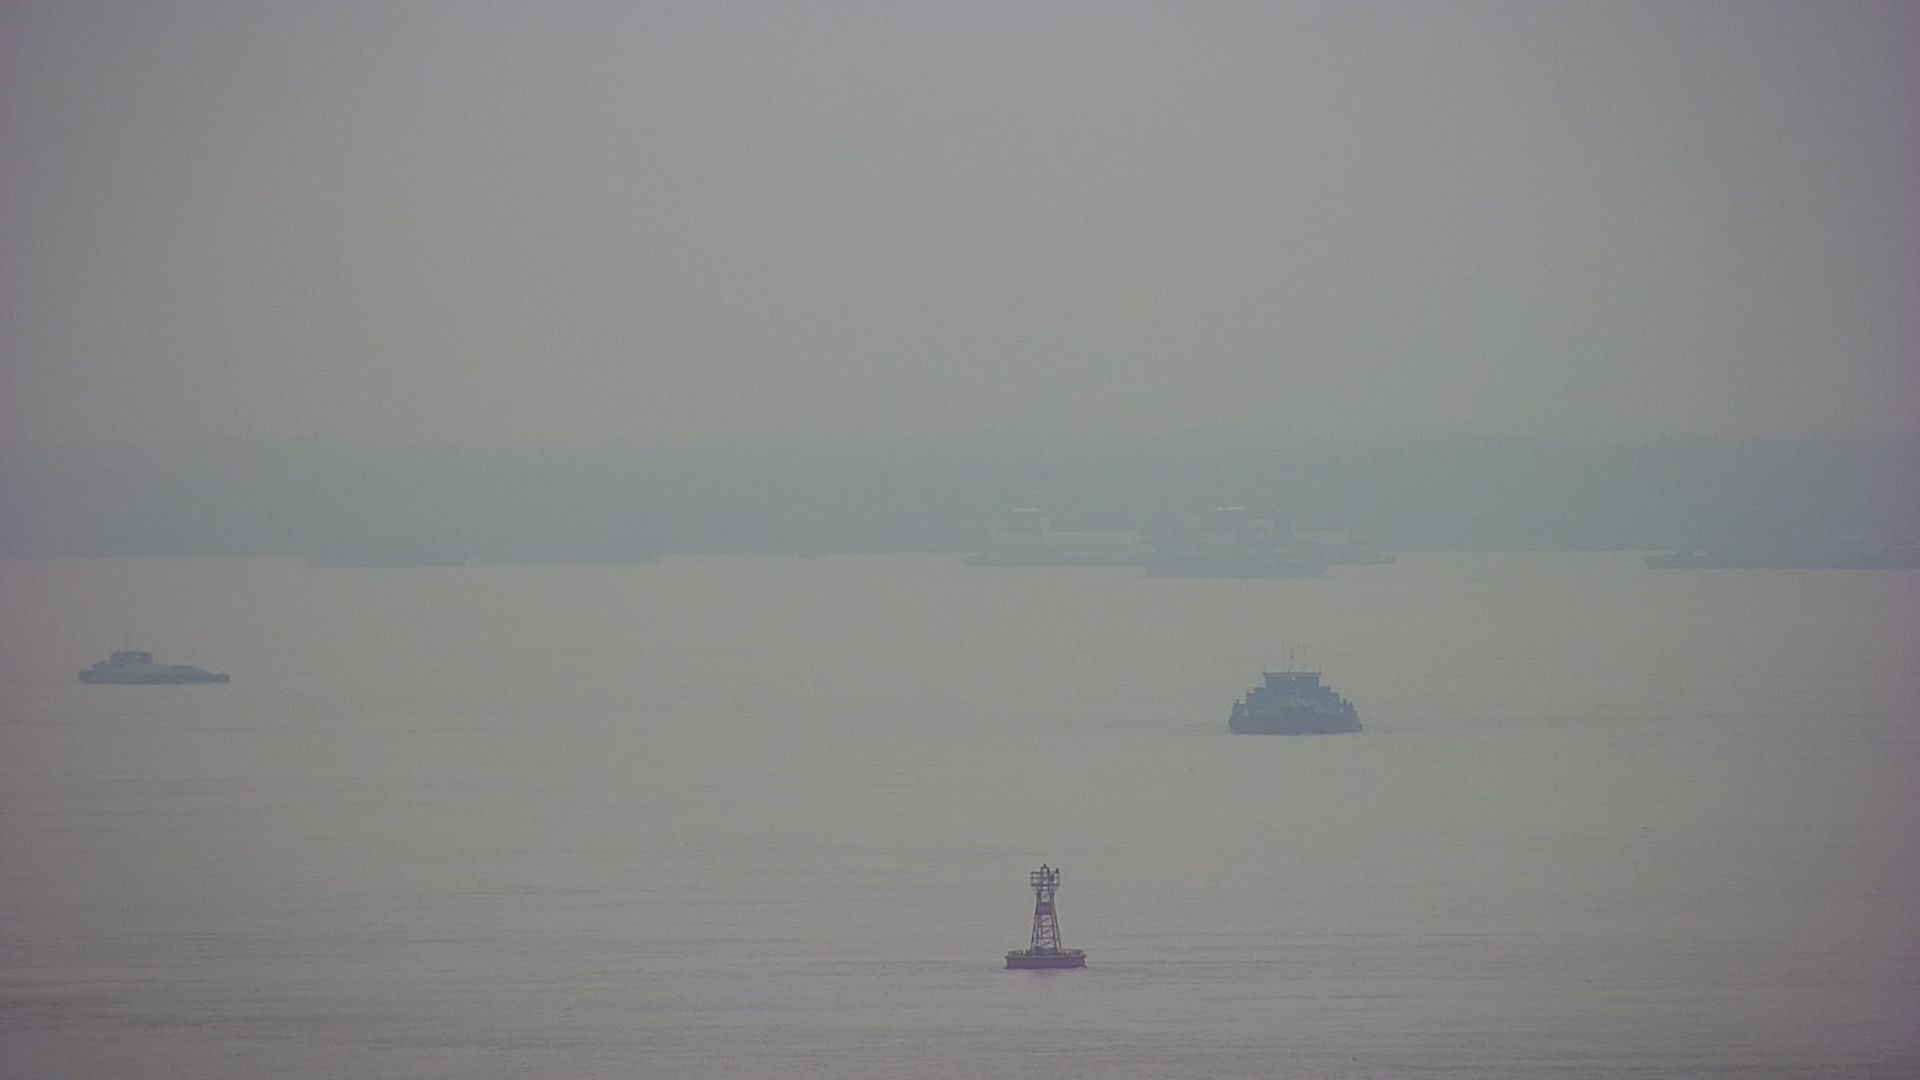buoy: (1007, 858, 1085, 971)
ship: (1212, 661, 1367, 740), (76, 640, 233, 690)
